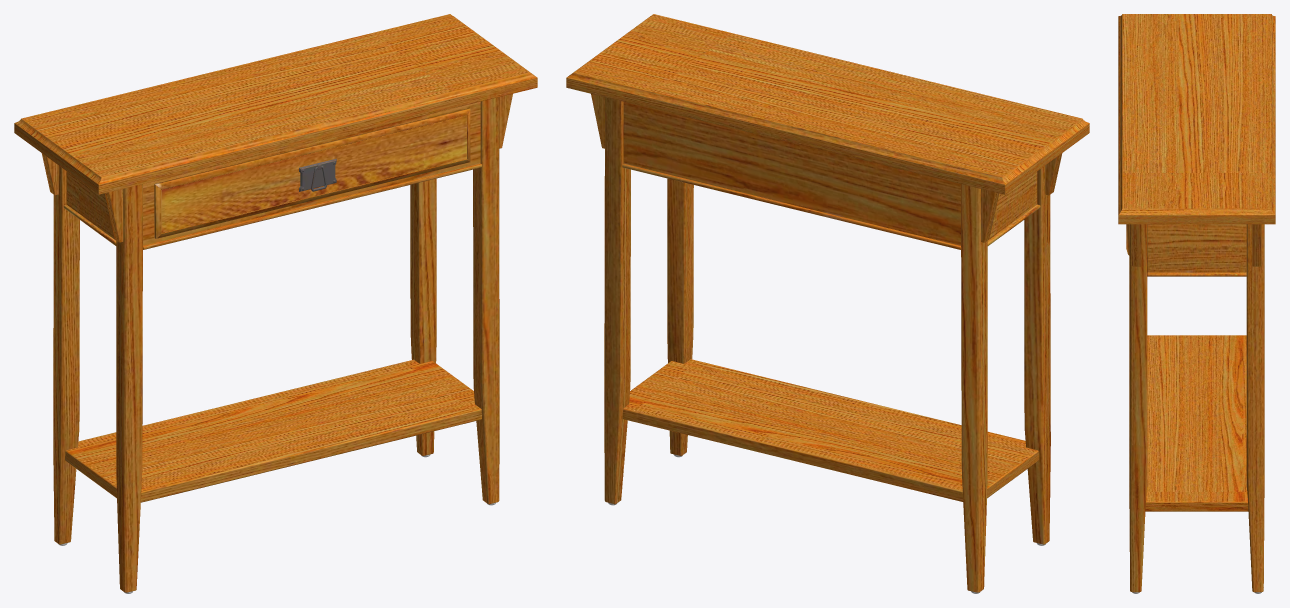
Rendered from abo-B07GZY278M.glb.
3 views of the same model, side by side, from view 1: azimuth 30°, elevation 25°; view 2: azimuth 150°, elevation 25°; view 3: azimuth 270°, elevation 25° (orthographic). The views are drawn at different scales.
Size of the model in its own units: 0.762 by 0.711 by 0.254.
Materials: 1 (1 with a texture image).
